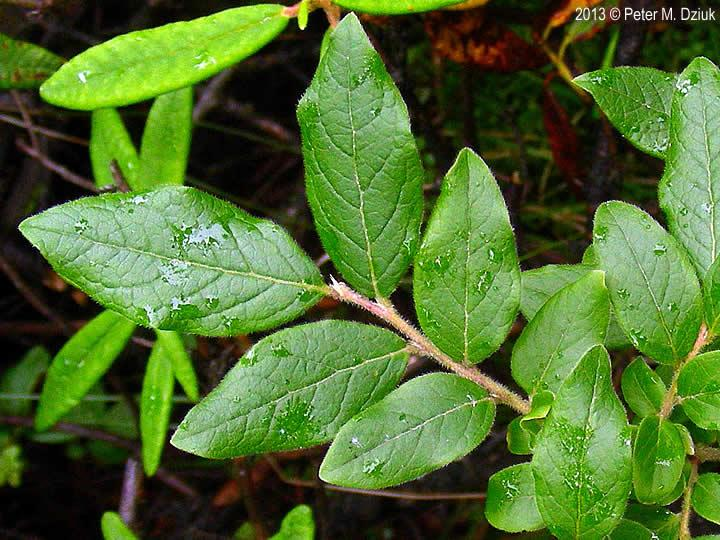Blueberry leaf: (17, 179, 333, 330), (283, 7, 428, 307), (162, 318, 423, 459), (410, 133, 522, 367), (530, 323, 647, 540), (582, 186, 710, 377), (308, 375, 512, 487), (504, 240, 602, 397)
